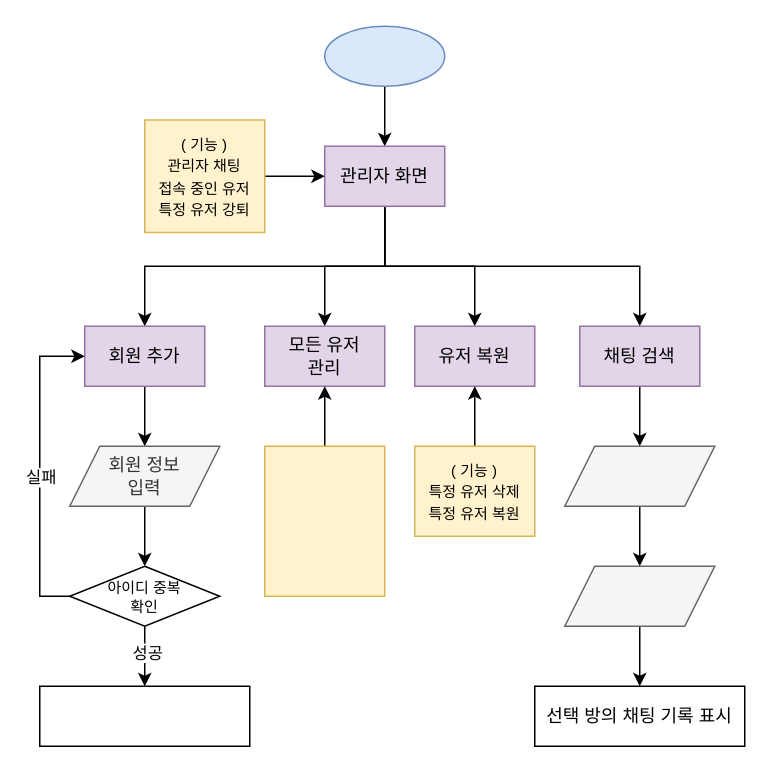
The diagram is 771 pixels wide and 773 high, and some of its shapes have lost their labels. Each missing label, with the centre of its shape:
"( 기능 ) 모든 유저 표시 특정 유저 검색 특정 유저 수정 특정 유저 삭제 테이블 새로고침" goes at [324,520].
"검색어 입력 또는 공백" goes at [639,595].
"시작" goes at [384,55].
"채팅 검색할 방 선택" goes at [639,475].
"회원 추가 성공 데이터베이스 정보 입력" goes at [144,715].
